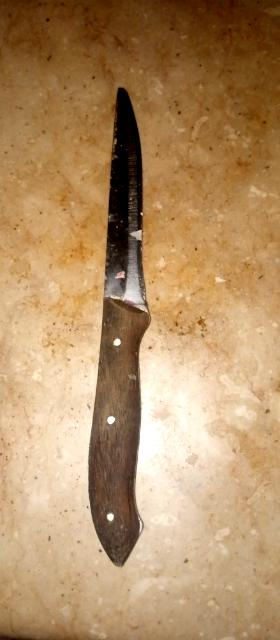Knife: (89, 88, 150, 566)
